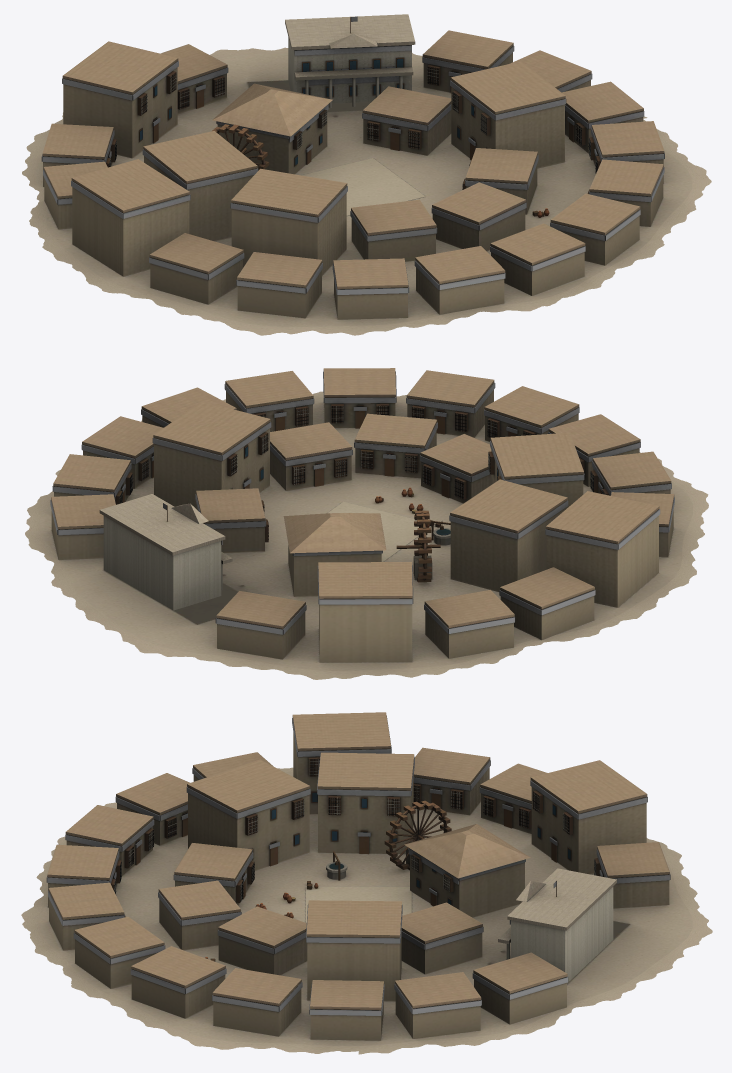
File: gunpowder-town-big-b-nile-2f112452.glb
The picture shows the model from 3 angles, top to bottom: view 1: azimuth 30°, elevation 25°; view 2: azimuth 150°, elevation 25°; view 3: azimuth 270°, elevation 25°; orthographic projection.
Visible parts, largest first — view 1: LOD0; view 2: LOD0; view 3: LOD0.
Part boxes in pixels (x1,y1,x2,y2): LOD0: (22,14,711,335); LOD0: (25,368,708,679); LOD0: (21,712,712,1054).
Size of what is drawn, in the model's own units: 7.91 by 0.9808 by 8.
Materials: 3 (3 with a texture image).
